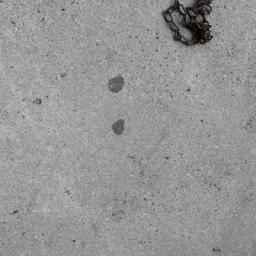FOD: (161, 1, 222, 50)
